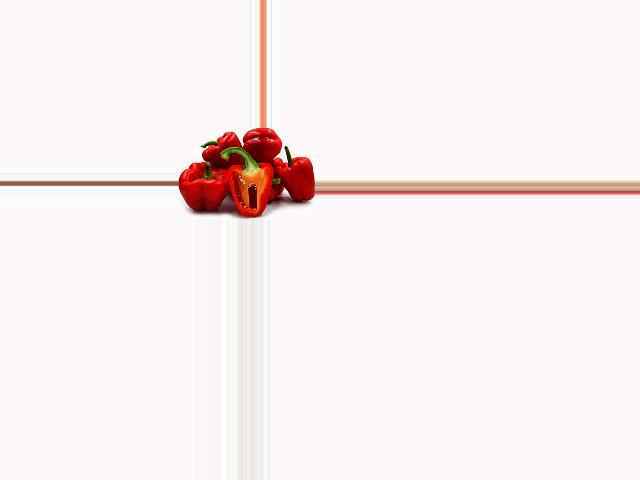bell_pepper: (200, 131, 243, 165)
